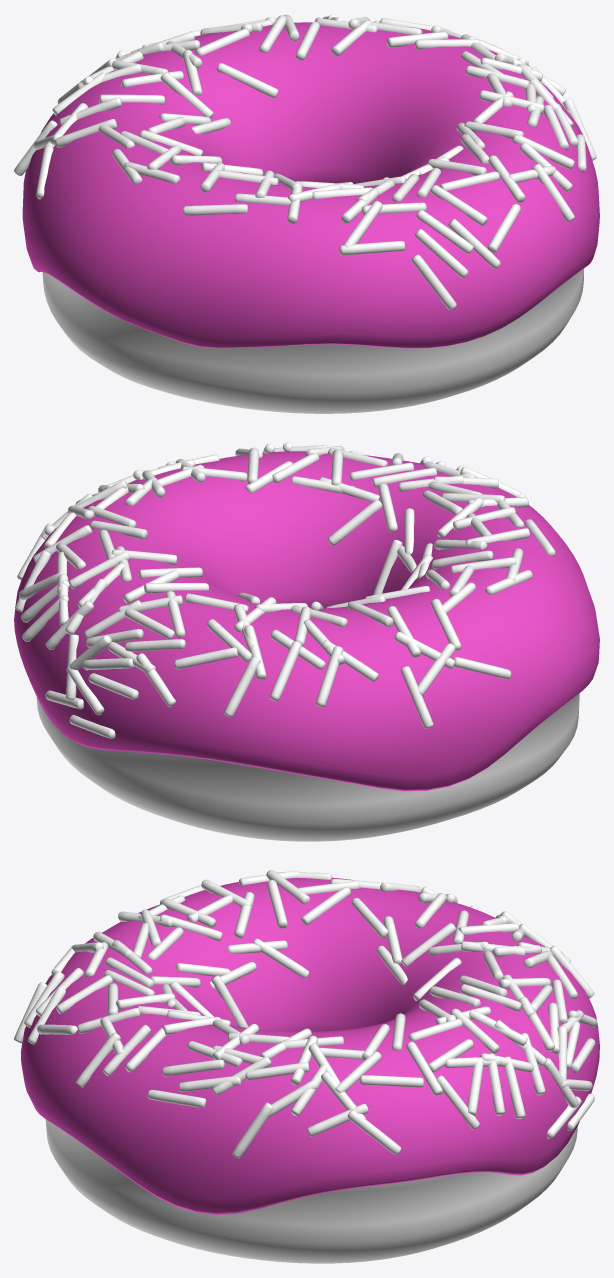
File: donut-marie.gltf
3 renders of one model, top to bottom at view 1: azimuth 30°, elevation 25°; view 2: azimuth 150°, elevation 25°; view 3: azimuth 270°, elevation 25°, orthographic. The views are drawn at different scales.
Visible parts, largest first — view 1: Icing, Donut; view 2: Icing, Donut; view 3: Icing, Donut.
Part boxes in pixels (bbox=[...]): Icing: bbox=[14, 14, 599, 348]; Donut: bbox=[42, 269, 583, 413]; Icing: bbox=[14, 442, 599, 791]; Donut: bbox=[36, 693, 579, 841]; Icing: bbox=[14, 870, 599, 1214]; Donut: bbox=[45, 1119, 577, 1263].
Size of the model in its own units: 0.1007 by 0.0428 by 0.1018.
